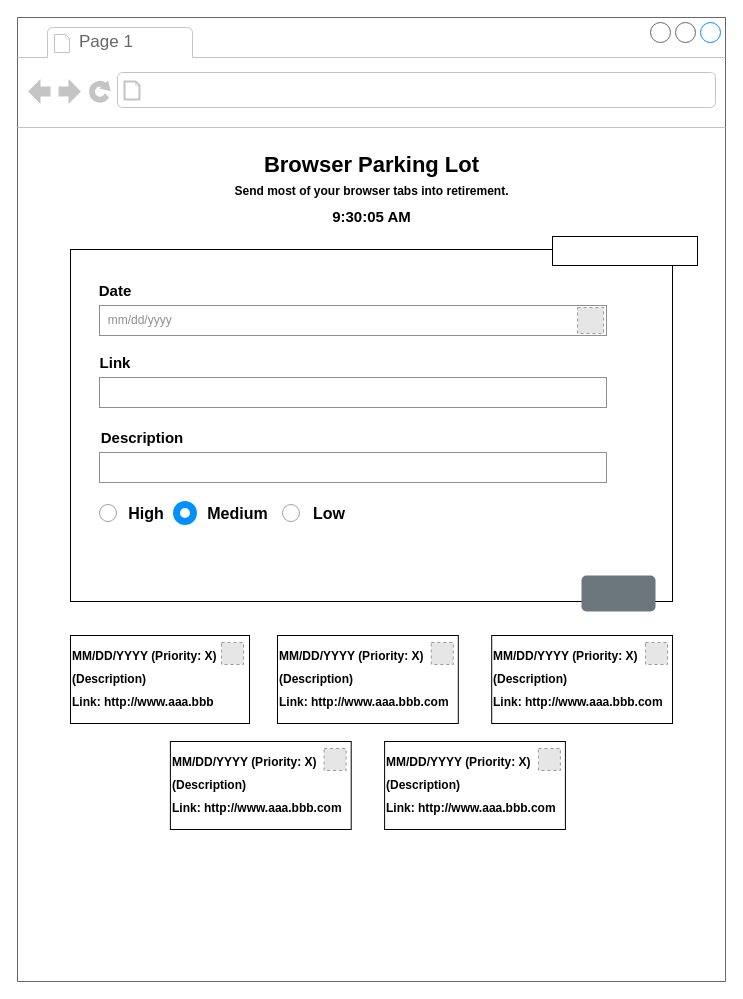
Some shapes in this 743 by 999 pixel diagram are drawn without their labels. Grey dashed boxes stand in for pictures. Each missing label, with the centre of its shape:
"https://www.draw.io" belongs at (x=272, y=90).
"Submit" belongs at (x=618, y=593).
"Switch to Dark Theme" belongs at (x=625, y=251).
